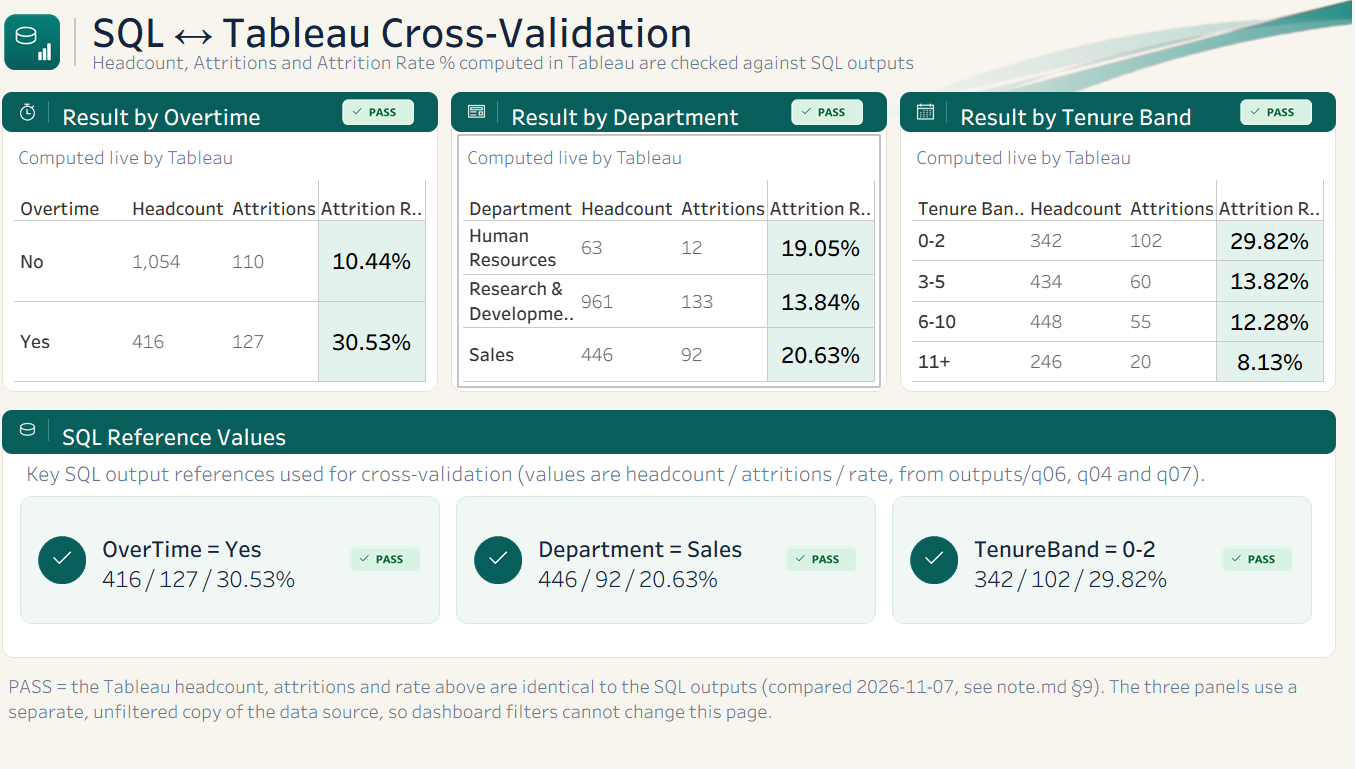

Layout of this report page (visuals, bound fields, positions):
{"tool":"tableau","page":{"name":"SQL Cross-Validation","canvas":[1366,768],"ordinal":2},"visuals":[{"type":"image","param":"Image/header_wave.png","box":[866,0,500,116]},{"type":"text","box":[100,10,820,42]},{"type":"image","param":"Image/logo_db.png","box":[18,14,56,56]},{"type":"blank","box":[88,18,2,48]},{"type":"text","box":[100,50,900,24]},{"type":"blank","box":[16,92,436,300]},{"type":"blank","box":[16,92,436,40]},{"type":"blank","box":[465,92,436,300]},{"type":"blank","box":[465,92,436,40]},{"type":"blank","box":[914,92,436,300]},{"type":"blank","box":[914,92,436,40]},{"type":"text","box":[70,99,272,34]},{"type":"image","param":"Image/pass_badge.png","box":[348,99,88,26]},{"type":"text","box":[519,99,272,34]},{"type":"image","param":"Image/pass_badge.png","box":[797,99,88,26]},{"type":"text","box":[968,99,272,34]},{"type":"image","param":"Image/pass_badge.png","box":[1246,99,88,26]},{"type":"image","param":"Image/ic_timer.png","box":[30,101,22,22]},{"type":"blank","box":[62,101,1,22]},{"type":"image","param":"Image/ic_dept.png","box":[479,101,22,22]},{"type":"blank","box":[511,101,1,22]},{"type":"image","param":"Image/ic_calendar.png","box":[928,101,22,22]},{"type":"blank","box":[960,101,1,22]},{"type":"worksheet","title":"XV Overtime","mark":"Square","rows":["OverTime","Calculation_9100000000000001","Calculation_9100000000000002"],"box":[24,136,420,250]},{"type":"worksheet","title":"XV Department","mark":"Square","rows":["Department","Calculation_9100000000000001","Calculation_9100000000000002"],"box":[473,136,420,250]},{"type":"worksheet","title":"XV Tenure Band","mark":"Square","rows":["TenureBand","Calculation_9100000000000001","Calculation_9100000000000002"],"box":[922,136,420,250]},{"type":"blank","box":[16,410,1334,248]},{"type":"blank","box":[16,410,1334,44]},{"type":"text","box":[70,417,1270,38]},{"type":"image","param":"Image/ic_db.png","box":[30,419,22,22]},{"type":"blank","box":[62,419,1,22]},{"type":"text","box":[34,460,1290,26]},{"type":"blank","box":[34,496,420,128]},{"type":"blank","box":[470,496,420,128]},{"type":"blank","box":[906,496,420,128]},{"type":"text","box":[110,528,244,70]},{"type":"text","box":[546,528,244,70]},{"type":"text","box":[982,528,244,70]},{"type":"image","param":"Image/check_circle.png","box":[52,536,48,48]},{"type":"image","param":"Image/check_circle.png","box":[488,536,48,48]},{"type":"image","param":"Image/check_circle.png","box":[924,536,48,48]},{"type":"image","param":"Image/pass_badge.png","box":[358,546,82,26]},{"type":"image","param":"Image/pass_badge.png","box":[794,546,82,26]},{"type":"image","param":"Image/pass_badge.png","box":[1230,546,82,26]},{"type":"text","box":[16,668,1334,60]}]}

Visuals, with their boxes in screenshot pixels (x1, y1, x2, y2), scaled from the page's 1366x768 canvas onto the 1355x769 screenshot:
image: x1=859 y1=0 x2=1354 y2=116
text: x1=99 y1=10 x2=913 y2=52
image: x1=18 y1=14 x2=73 y2=70
blank: x1=87 y1=18 x2=89 y2=66
text: x1=99 y1=50 x2=992 y2=74
blank: x1=16 y1=92 x2=448 y2=393
blank: x1=16 y1=92 x2=448 y2=132
blank: x1=461 y1=92 x2=894 y2=393
blank: x1=461 y1=92 x2=894 y2=132
blank: x1=907 y1=92 x2=1339 y2=393
blank: x1=907 y1=92 x2=1339 y2=132
text: x1=69 y1=99 x2=339 y2=133
image: x1=345 y1=99 x2=432 y2=125
text: x1=515 y1=99 x2=785 y2=133
image: x1=791 y1=99 x2=878 y2=125
text: x1=960 y1=99 x2=1230 y2=133
image: x1=1236 y1=99 x2=1323 y2=125
image: x1=30 y1=101 x2=52 y2=123
image: x1=475 y1=101 x2=497 y2=123
blank: x1=507 y1=101 x2=508 y2=123
image: x1=921 y1=101 x2=942 y2=123
blank: x1=952 y1=101 x2=953 y2=123
"XV Overtime" worksheet (Square marks): x1=24 y1=136 x2=440 y2=387
"XV Department" worksheet (Square marks): x1=469 y1=136 x2=886 y2=387
"XV Tenure Band" worksheet (Square marks): x1=915 y1=136 x2=1331 y2=387
blank: x1=16 y1=411 x2=1339 y2=659
blank: x1=16 y1=411 x2=1339 y2=455
text: x1=69 y1=418 x2=1329 y2=456
image: x1=30 y1=420 x2=52 y2=442
text: x1=34 y1=461 x2=1313 y2=487
blank: x1=34 y1=497 x2=450 y2=625
blank: x1=466 y1=497 x2=883 y2=625
blank: x1=899 y1=497 x2=1315 y2=625
text: x1=109 y1=529 x2=351 y2=599
text: x1=542 y1=529 x2=784 y2=599
text: x1=974 y1=529 x2=1216 y2=599
image: x1=52 y1=537 x2=99 y2=585
image: x1=484 y1=537 x2=532 y2=585
image: x1=917 y1=537 x2=964 y2=585
image: x1=355 y1=547 x2=436 y2=573
image: x1=788 y1=547 x2=869 y2=573
image: x1=1220 y1=547 x2=1301 y2=573
text: x1=16 y1=669 x2=1339 y2=729
